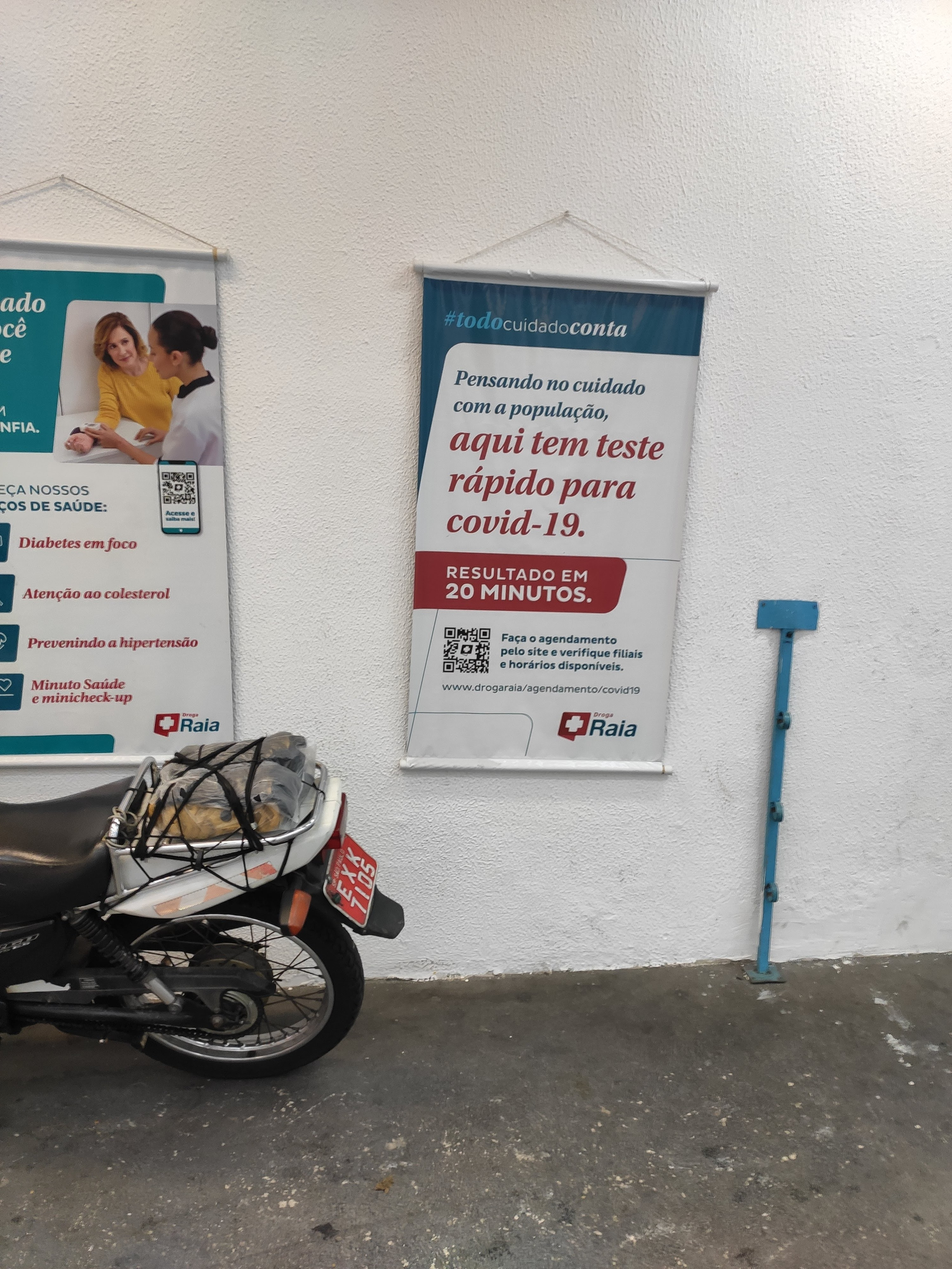QR-CODE: (443, 627, 490, 673), (162, 472, 196, 505)
